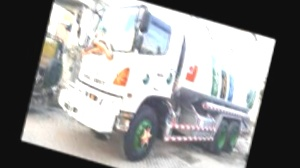truck: (45, 0, 270, 168)
